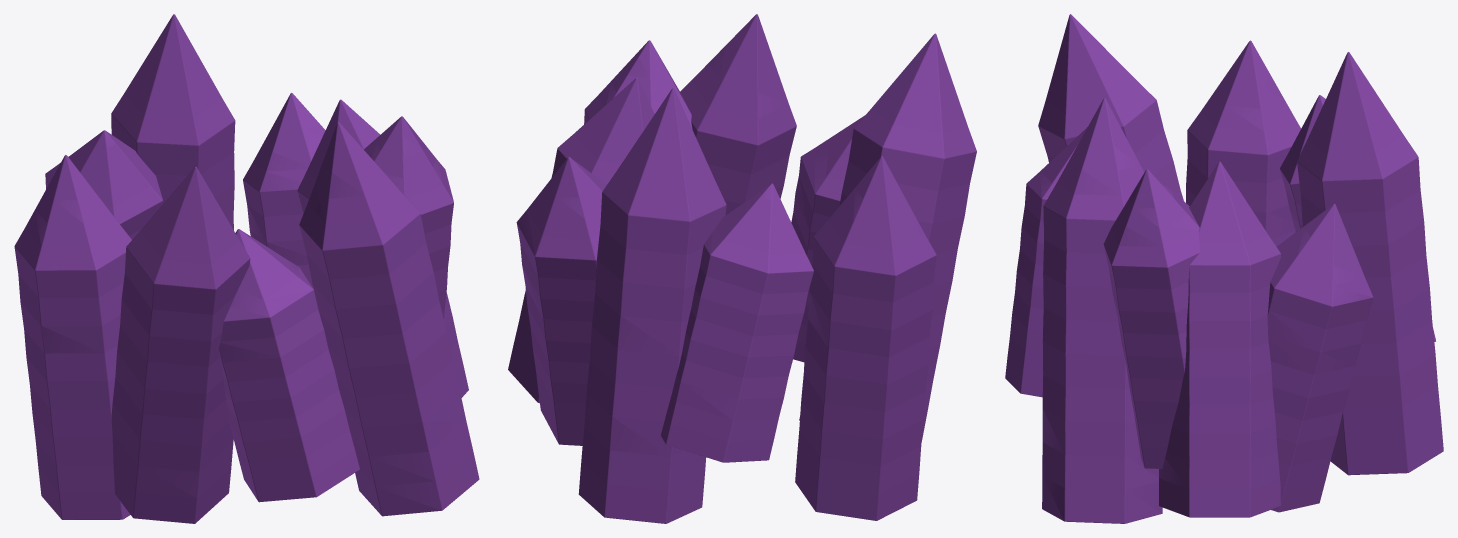
File: amethyst.glb
The picture shows the model from 3 angles, left to right: view 1: azimuth 30°, elevation 25°; view 2: azimuth 150°, elevation 25°; view 3: azimuth 270°, elevation 25°; orthographic projection. The views are drawn at different scales.
Visible parts, largest first — view 1: amethyst.001; view 2: amethyst.001; view 3: amethyst.001.
Boxes of the visible parts, x1,y1,x2,y2 form: amethyst.001: [14, 14, 479, 523]; amethyst.001: [508, 14, 976, 523]; amethyst.001: [1005, 14, 1443, 523].
Size of the model in its own units: 2.33 by 2.26 by 2.17.
